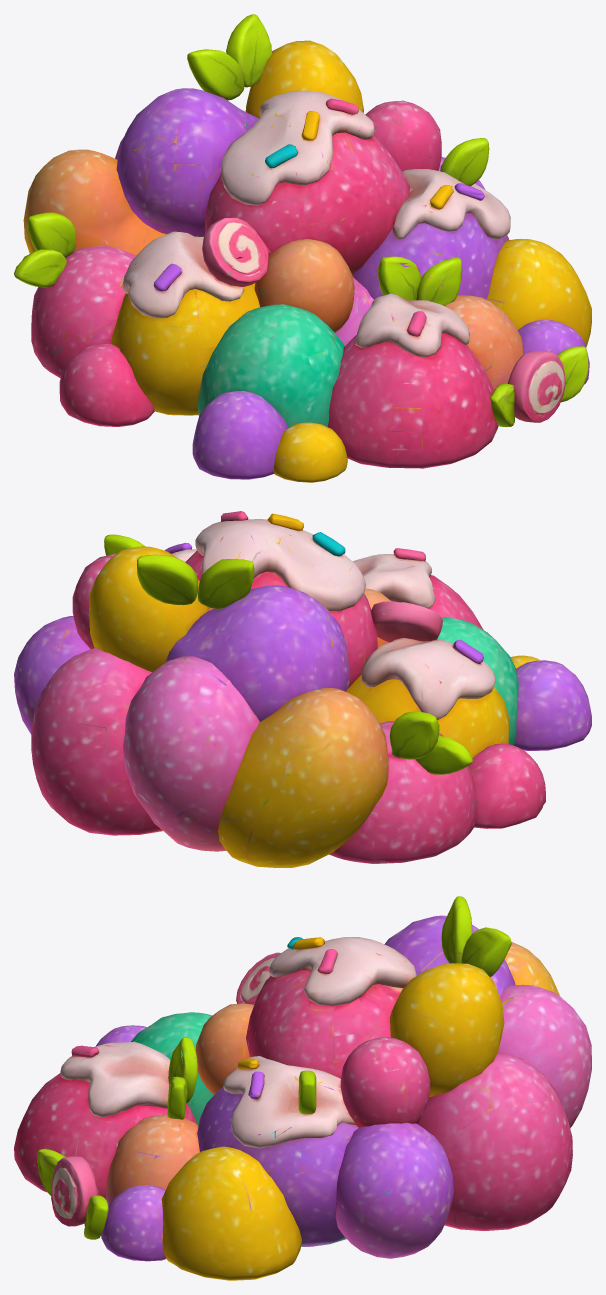
Rendered from gumdrop_bush.glb.
3 views of the same model, one above another, from view 1: azimuth 30°, elevation 25°; view 2: azimuth 150°, elevation 25°; view 3: azimuth 270°, elevation 25° (orthographic). The views are drawn at different scales.
Size of what is drawn, in the model's own units: 1.91 by 0.9999 by 2.03.
1 material, 1 textured.
